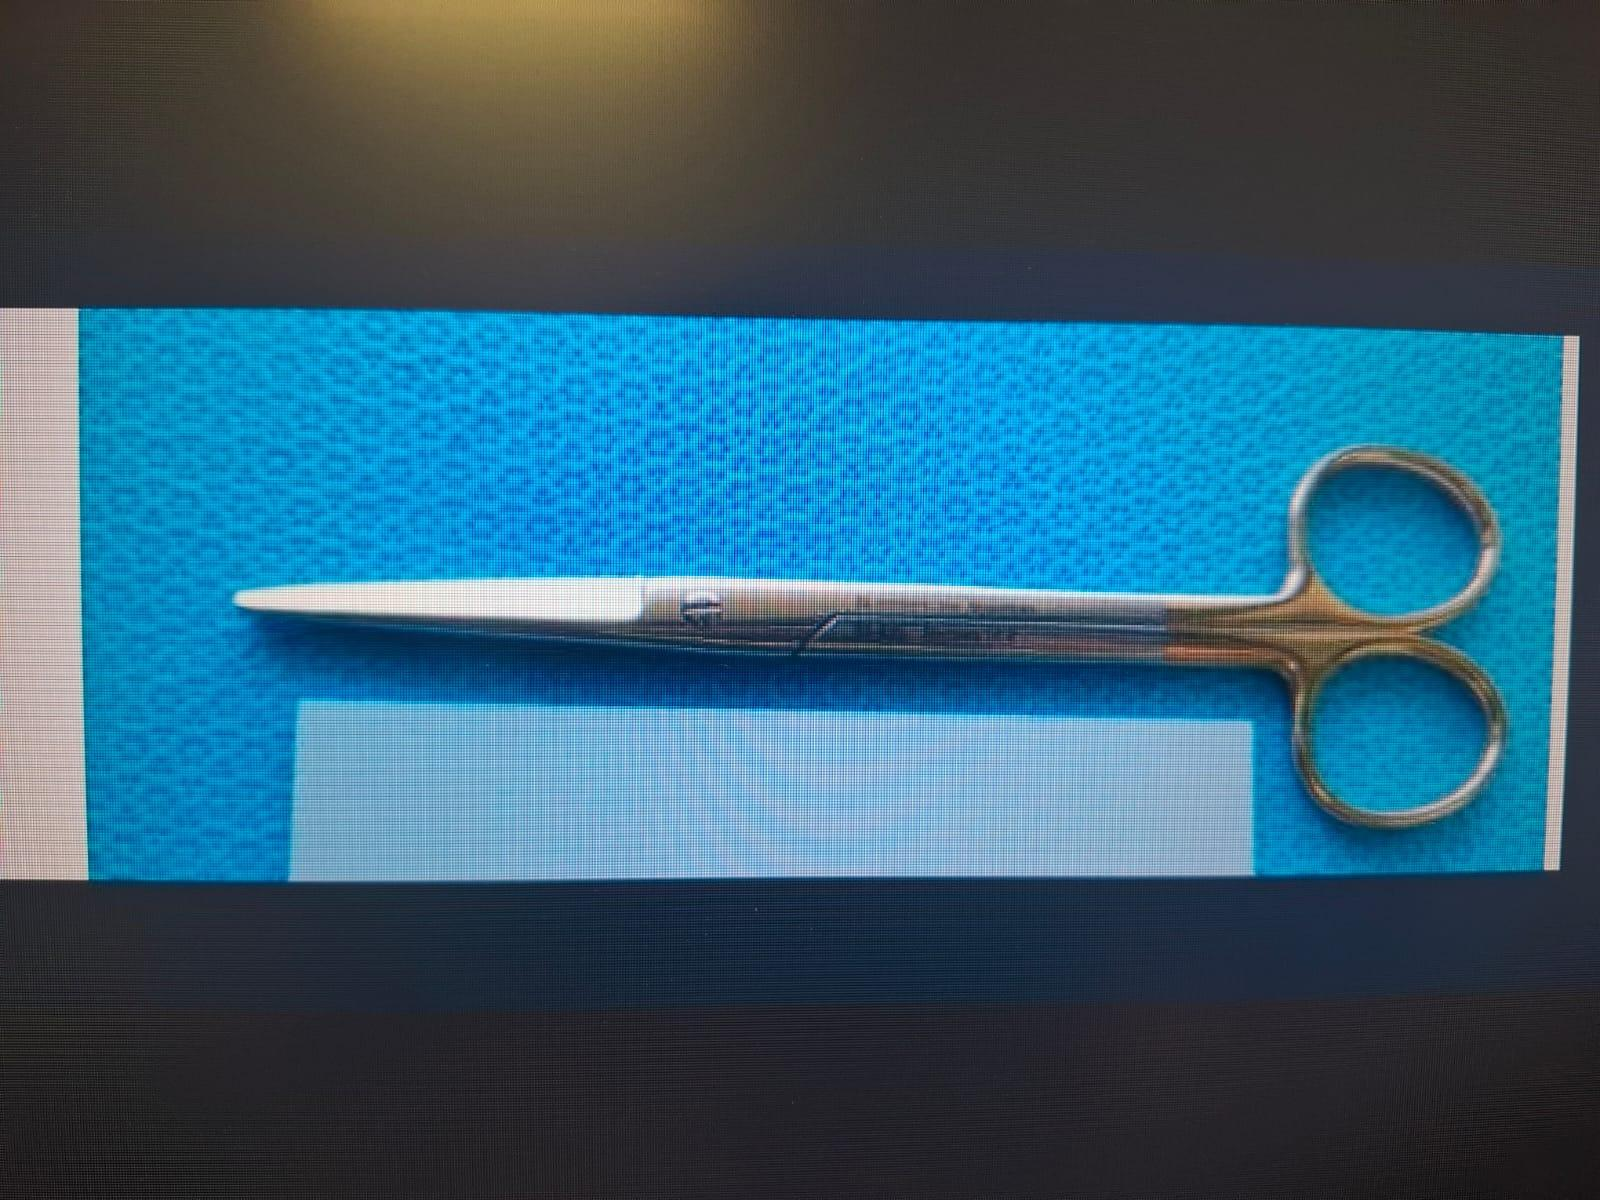Straight Mayo: (216, 420, 1520, 830)
